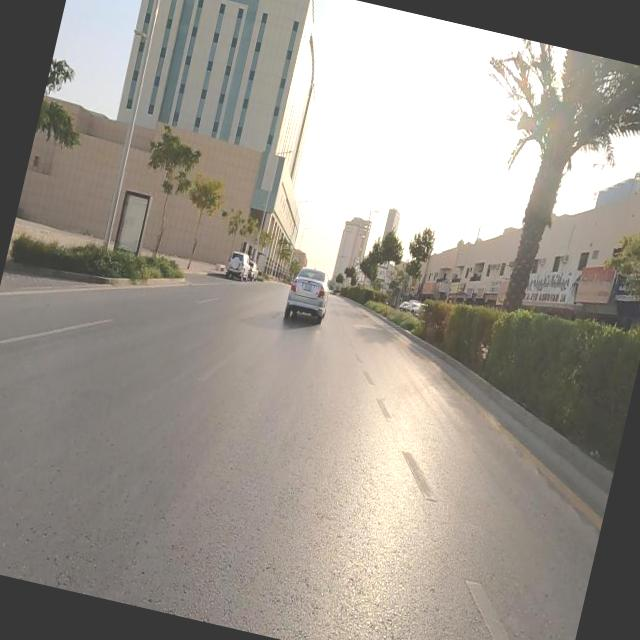debris: (522, 180, 640, 399)
